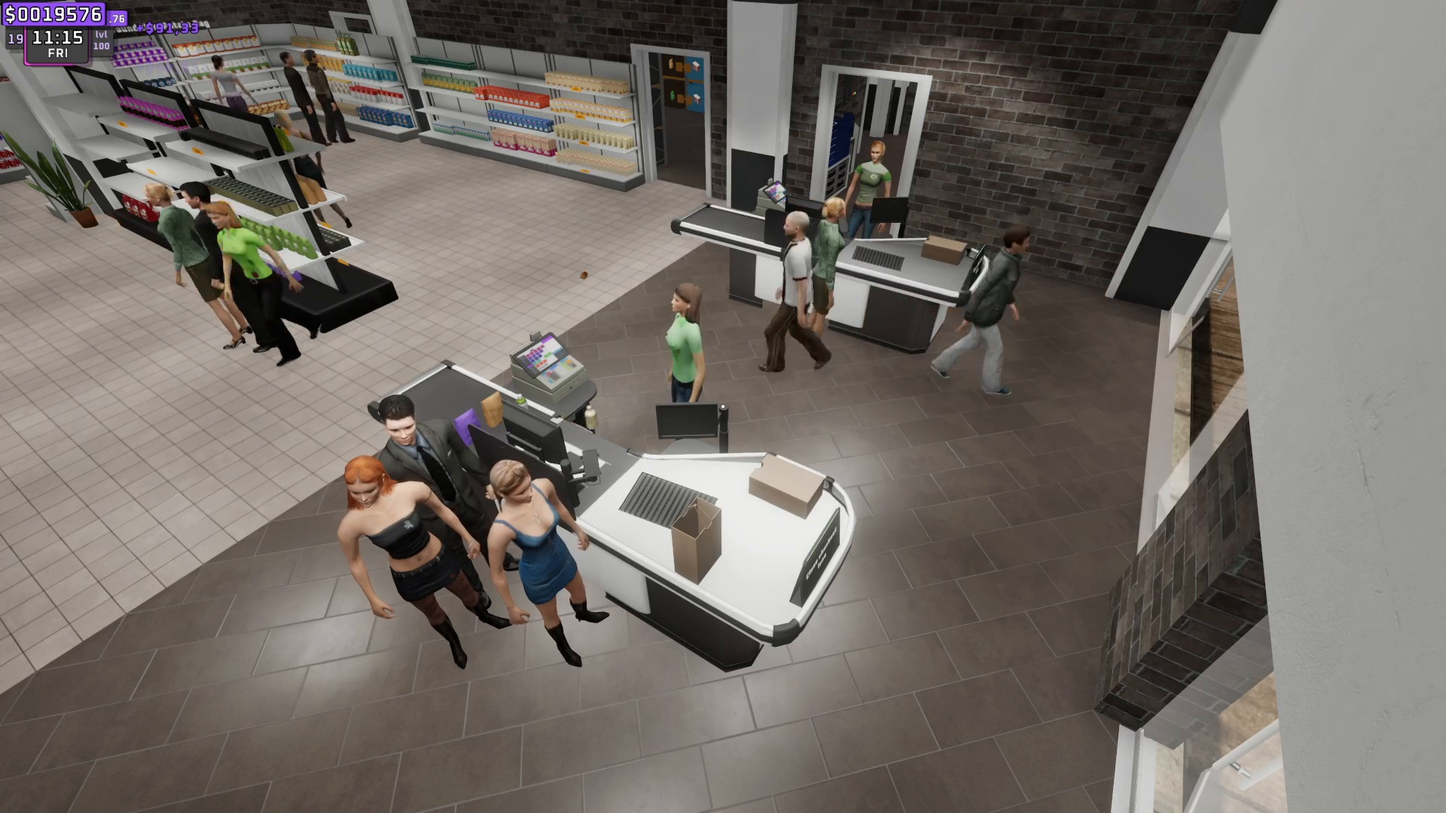Client: (336, 469, 493, 655), (493, 472, 626, 679), (374, 391, 498, 562), (962, 228, 1032, 399), (763, 204, 817, 367), (820, 191, 838, 349)
Employee: (658, 284, 716, 396), (846, 137, 897, 233)
